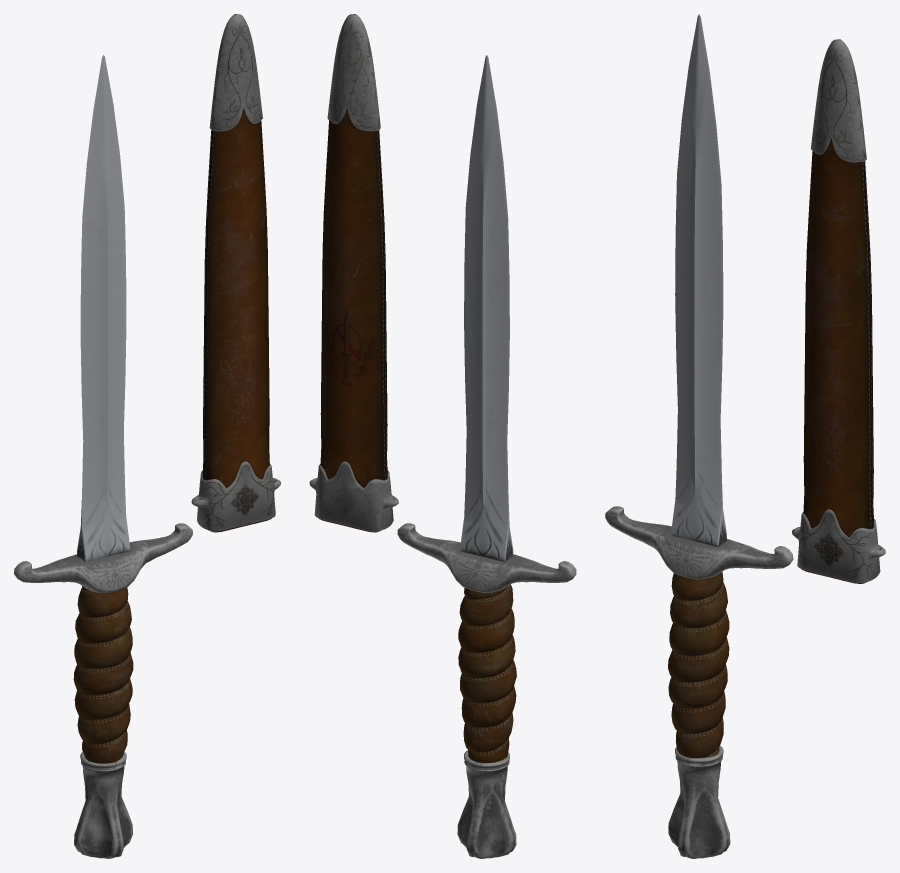
The model's file is ornate_medieval_dagger.glb.
3 renders of one model, left to right at view 1: azimuth 30°, elevation 25°; view 2: azimuth 150°, elevation 25°; view 3: azimuth 330°, elevation 25°, orthographic. The views are drawn at different scales.
Visible parts, largest first — view 1: ornate_medieval_dagger, ornate_medieval_dagger_scabbard; view 2: ornate_medieval_dagger, ornate_medieval_dagger_scabbard; view 3: ornate_medieval_dagger, ornate_medieval_dagger_scabbard.
Part boxes in pixels (<box>): ornate_medieval_dagger: <box>14,55,192,858</box>; ornate_medieval_dagger_scabbard: <box>191,14,280,532</box>; ornate_medieval_dagger: <box>397,55,576,858</box>; ornate_medieval_dagger_scabbard: <box>309,14,398,532</box>; ornate_medieval_dagger: <box>605,14,793,858</box>; ornate_medieval_dagger_scabbard: <box>792,39,885,583</box>.
Size of the model in its own units: 0.1202 by 0.3489 by 0.025.
Materials: 1 (1 with a texture image).
